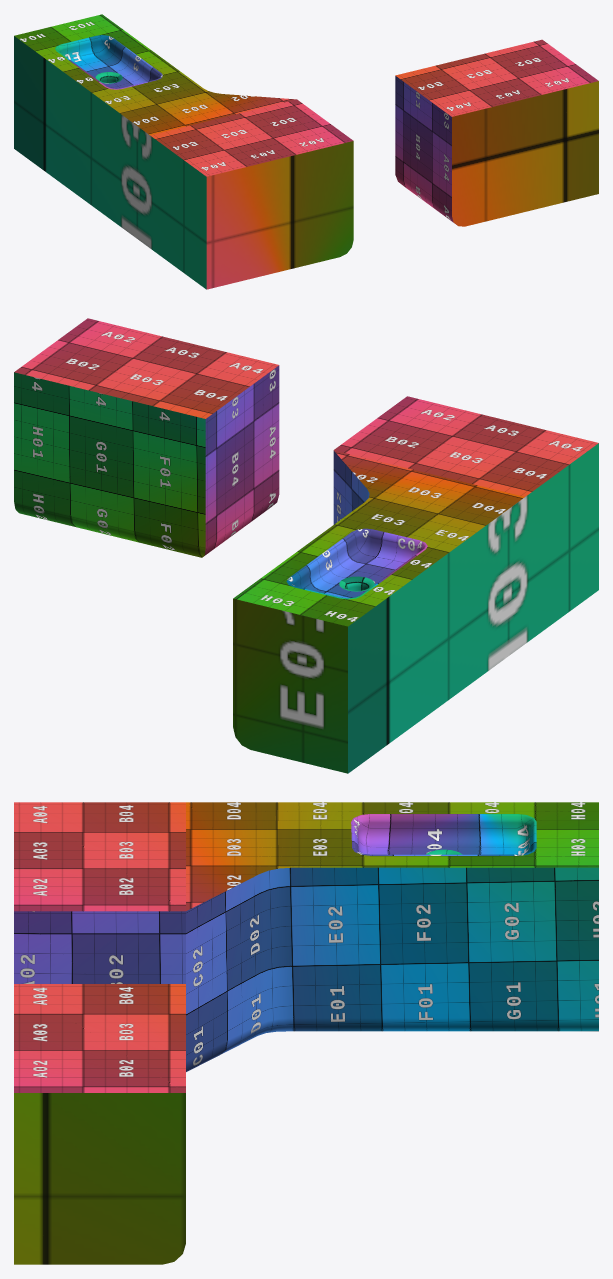
Rendered from ToiletSink_low.fbx.
3 views of the same model, one above another, from view 1: azimuth 30°, elevation 25°; view 2: azimuth 150°, elevation 25°; view 3: azimuth 270°, elevation 25° (orthographic). The views are drawn at different scales.
Visible parts, largest first — view 1: ToiletSink_low; view 2: ToiletSink_low; view 3: ToiletSink_low.
Boxes of the visible parts, left/top/right/bottom form: ToiletSink_low: left=14, top=14, right=598, bottom=289; ToiletSink_low: left=14, top=318, right=598, bottom=773; ToiletSink_low: left=14, top=802, right=598, bottom=1264.
Bounding box in the file's own units: 400 × 110 × 340.
